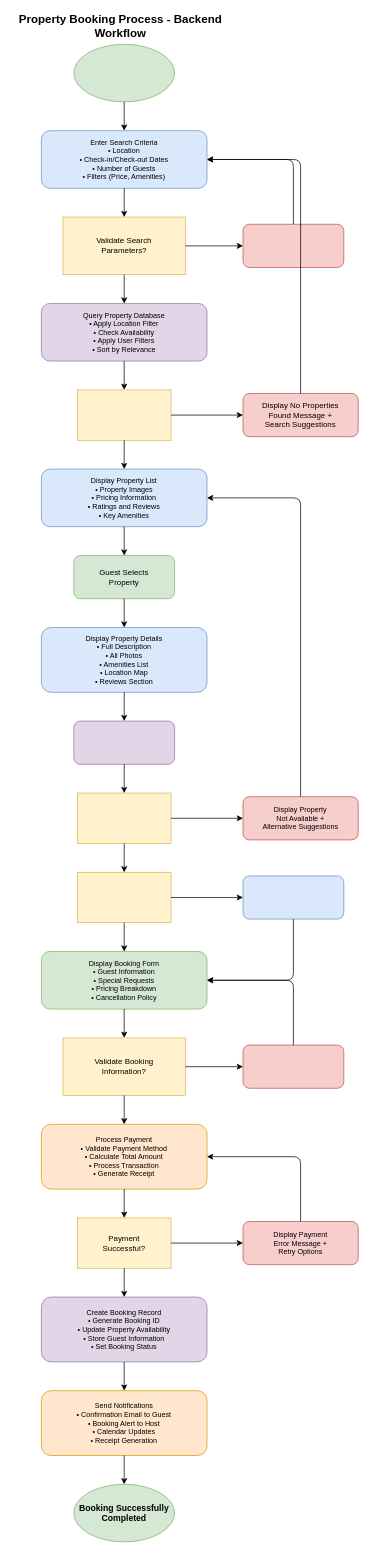
This 371x1554 diagram has some shape labels left out. Here are the shapes that lost their labels. From the top down, the box of each, then its label:
(73, 44, 175, 102): Guest Initiates Property Search
(242, 224, 344, 267): Display Validation Errors to User
(77, 389, 171, 440): Properties Found?
(73, 720, 175, 764): Check Real-time Availability
(77, 792, 171, 843): Property Available?
(77, 872, 171, 923): User Authenticated?
(242, 875, 344, 919): Redirect to Login/Register Page
(242, 1044, 344, 1088): Display Form Validation Errors
